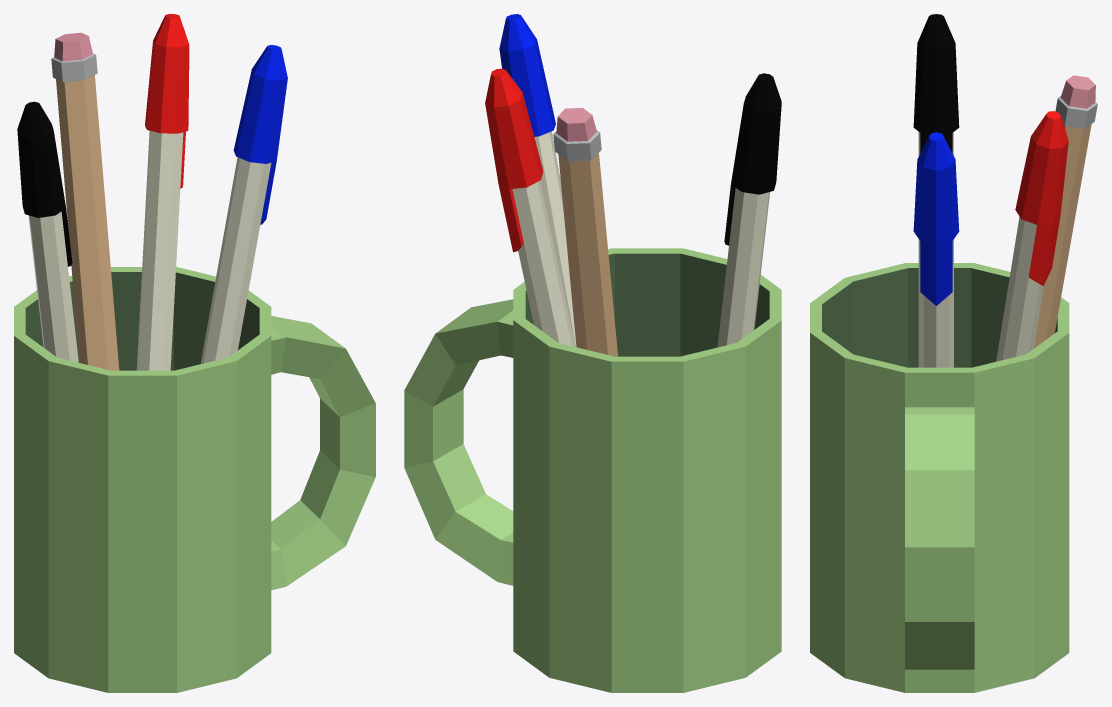
The model's file is Mug&Pencil_Green.fbx.
3 renders of one model, left to right at view 1: azimuth 30°, elevation 25°; view 2: azimuth 150°, elevation 25°; view 3: azimuth 270°, elevation 25°, orthographic. The views are drawn at different scales.
Visible parts, largest first — view 1: Mug/Pencil.003; view 2: Mug/Pencil.003; view 3: Mug/Pencil.003.
Boxes of the visible parts, bbox=[...] form: Mug/Pencil.003: bbox=[14, 14, 375, 692]; Mug/Pencil.003: bbox=[404, 14, 781, 692]; Mug/Pencil.003: bbox=[810, 14, 1097, 692].
Bounding box in the file's own units: 11.25 × 17.73 × 8.14.
